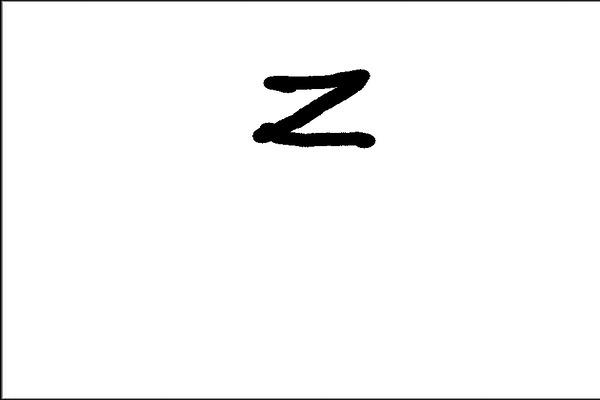Z: (245, 57, 383, 157)
